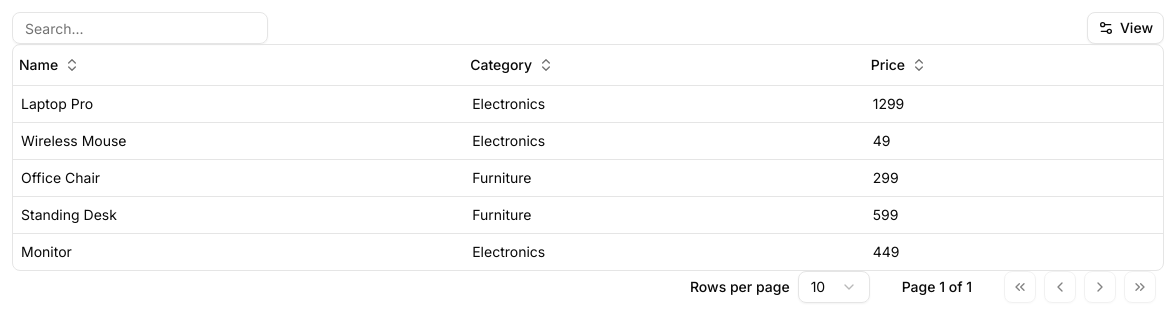
Test case: DataTable column visibility › hides a column from its header menu
The image size is (1176, 320).
Click the button "Category" at (512, 65), box [460,49,564,81]
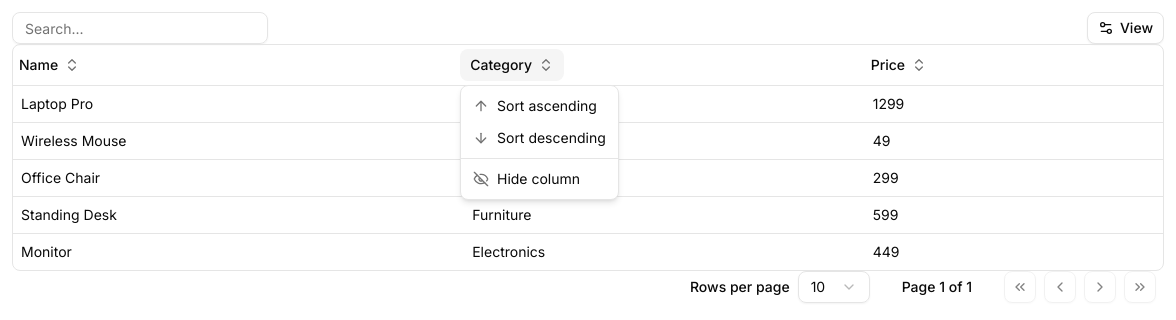
Click the menu item "Hide column" at (527, 178), box [473,170,580,187]
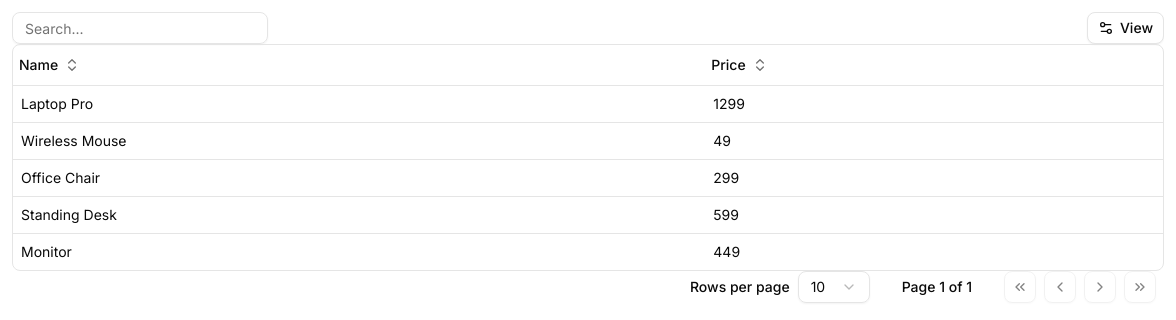
Expected: the button "Category" is gone
